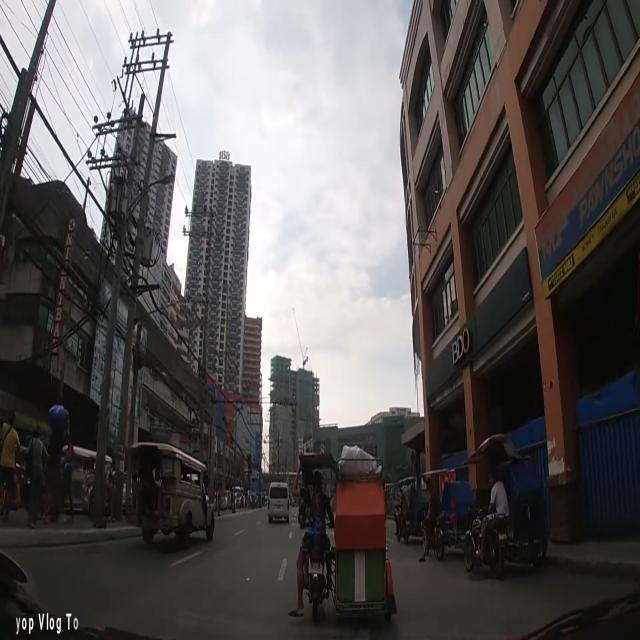car: (268, 482, 290, 524)
jeepney: (124, 443, 215, 542), (59, 444, 112, 516)
tricycle: (295, 444, 398, 623), (464, 432, 550, 580), (418, 468, 477, 564), (398, 476, 430, 542)
